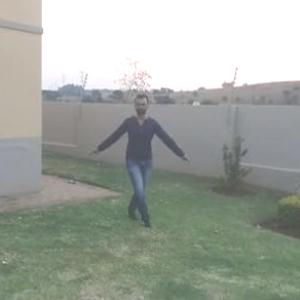land: (94, 82, 193, 231)
